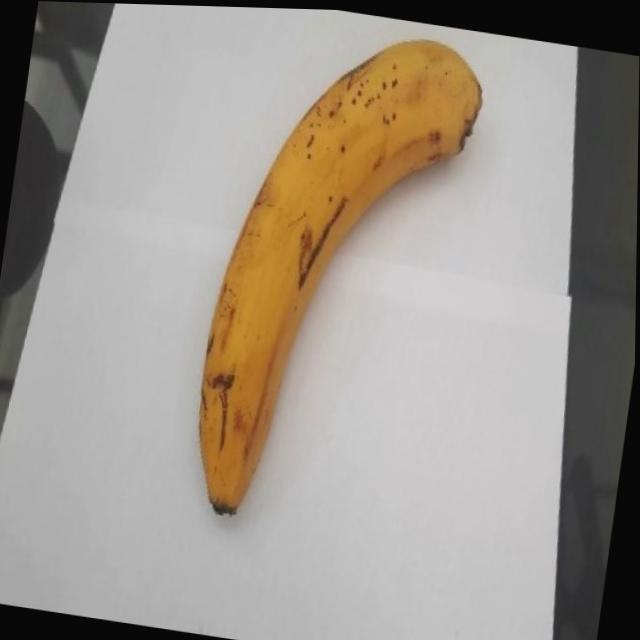Banana: (183, 9, 490, 546)
